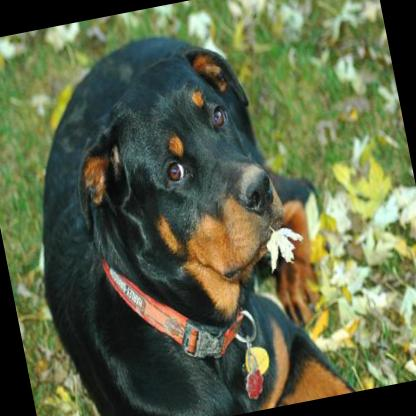Rottweiler: (0, 11, 353, 416)
